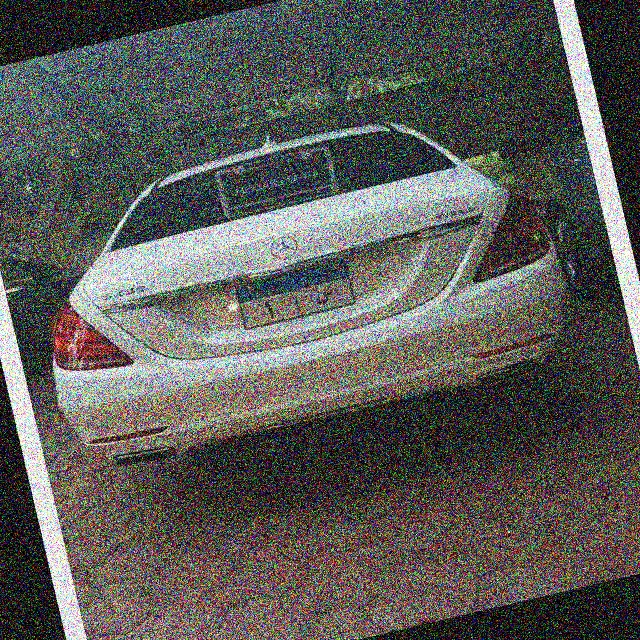License Plate: (231, 257, 361, 334)
